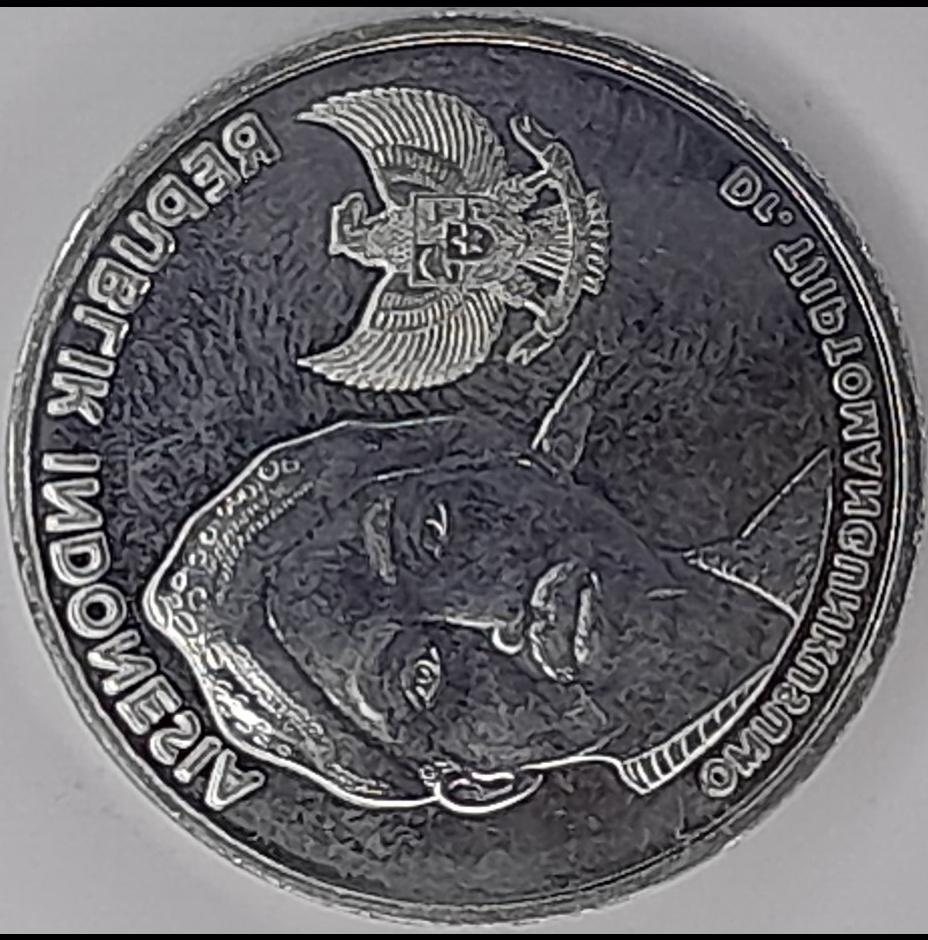coin_200_e2016: (0, 16, 928, 940)
